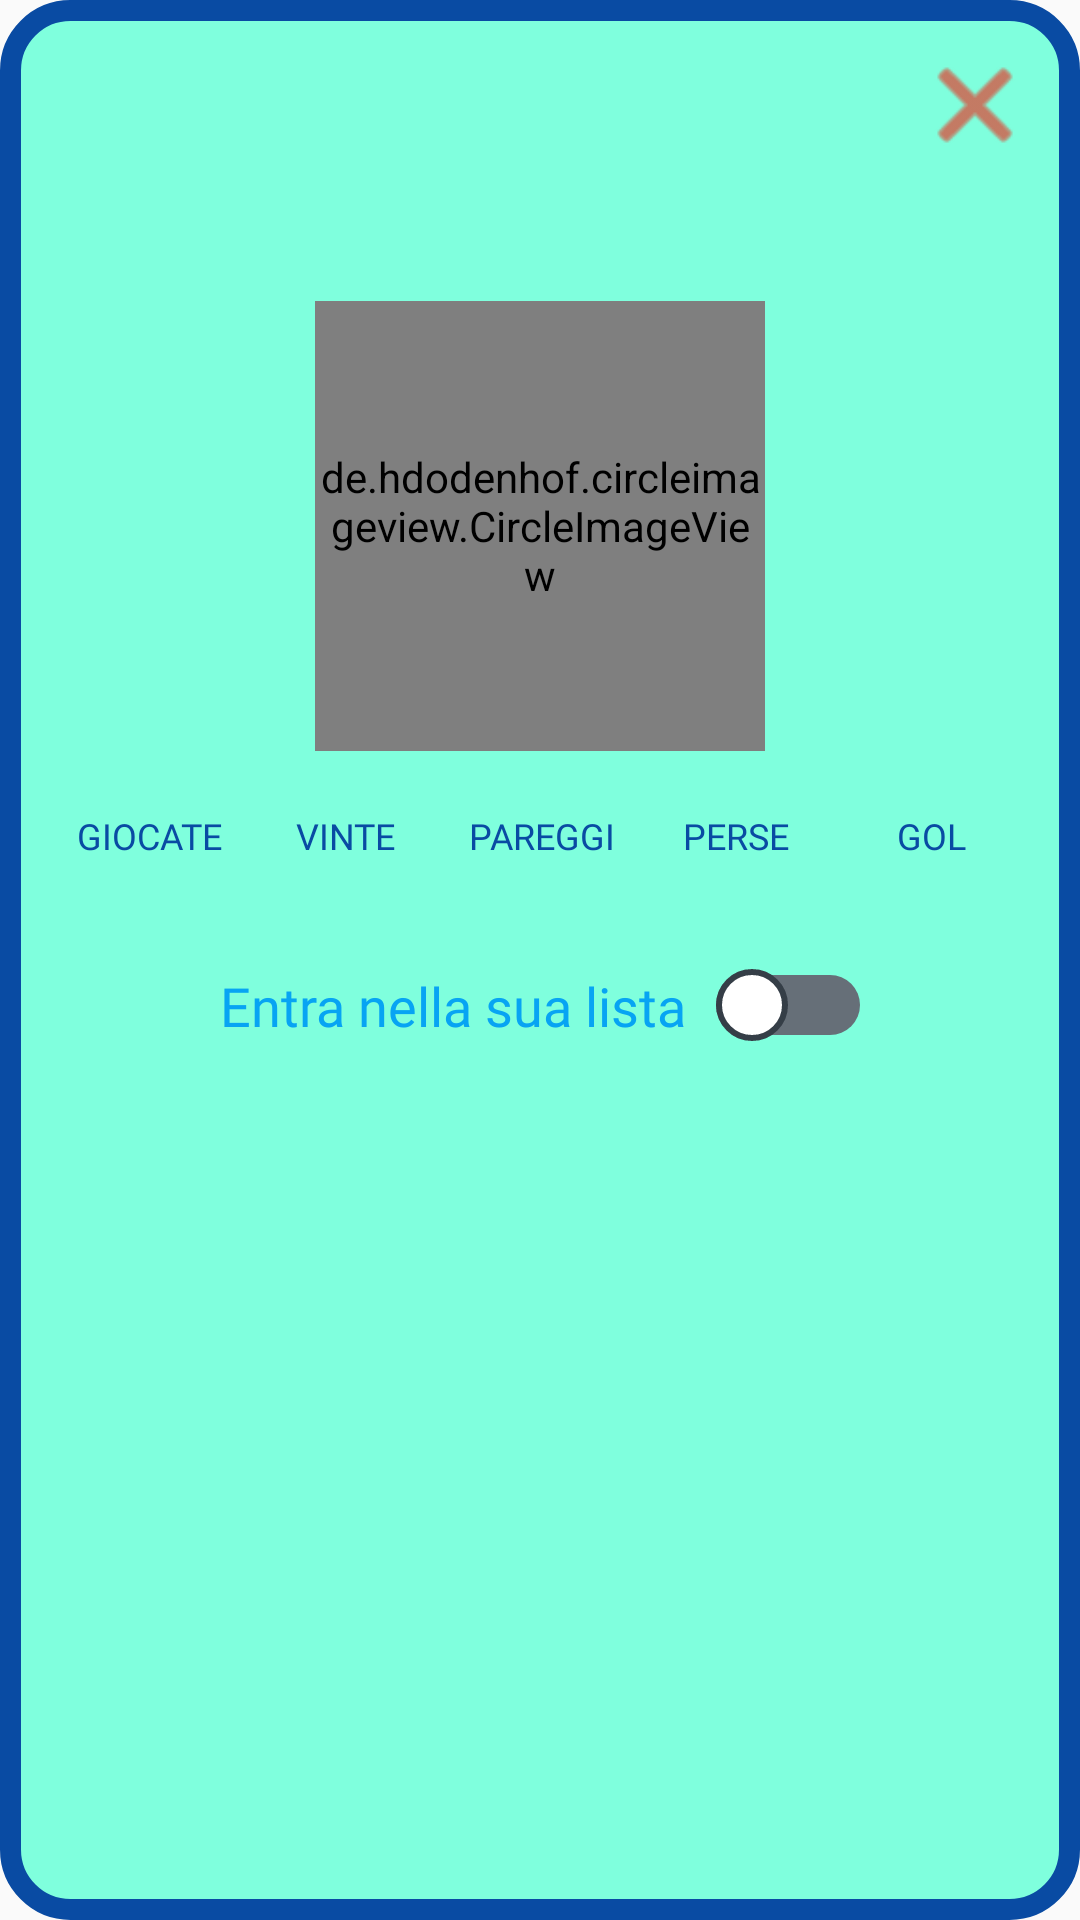

Screen size 1080*1920. Icon name, then its box in pixels as (x1, y1, x2, y2):
close clear cancel: (937, 67, 1013, 143)
